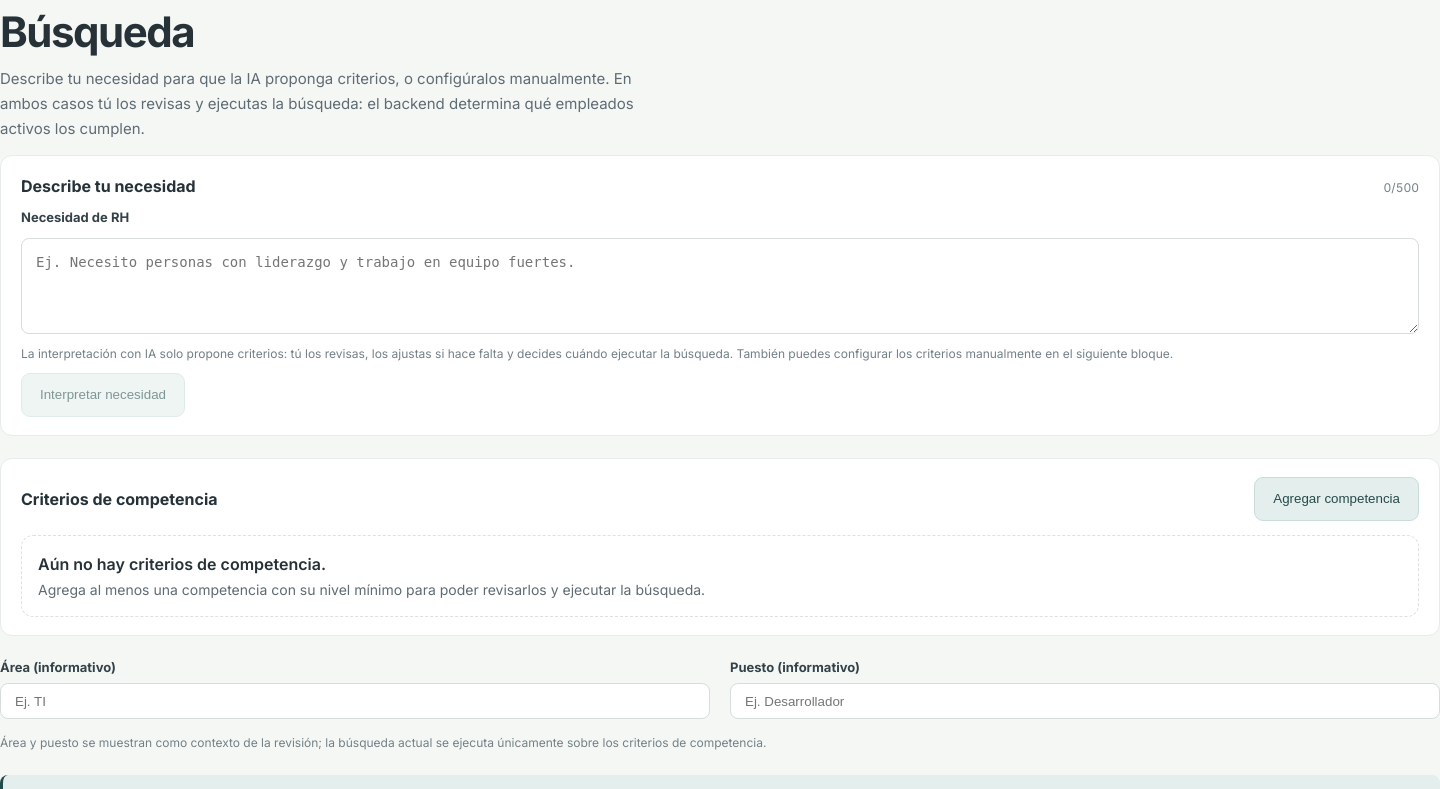
Test case: Búsqueda — criterios de competencia › admite varias competencias y las muestra todas en la revisión
Click the button "Agregar competencia": (1337, 499) [1254,477,1419,521]
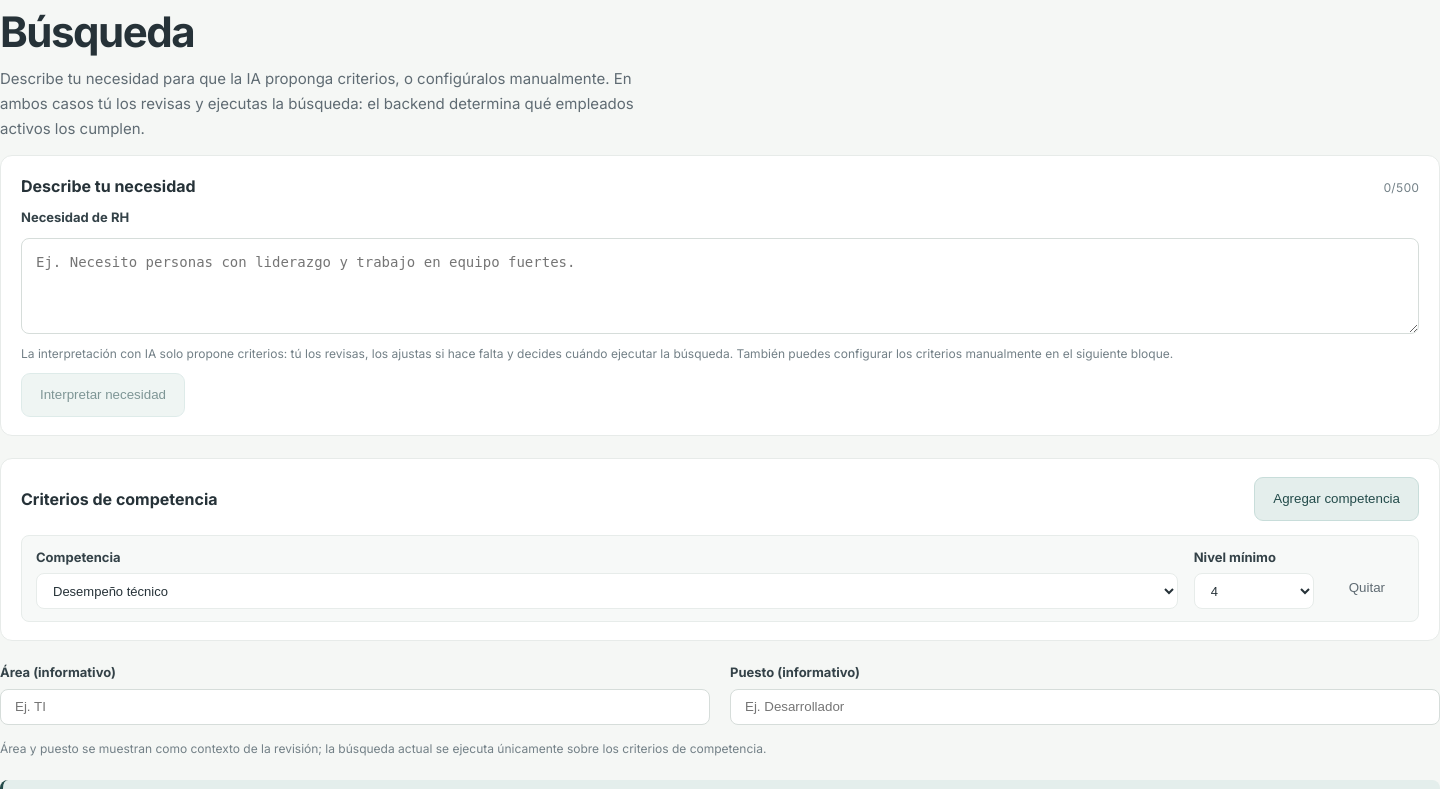
Click the button "Agregar competencia": (1337, 499) [1254,477,1419,521]
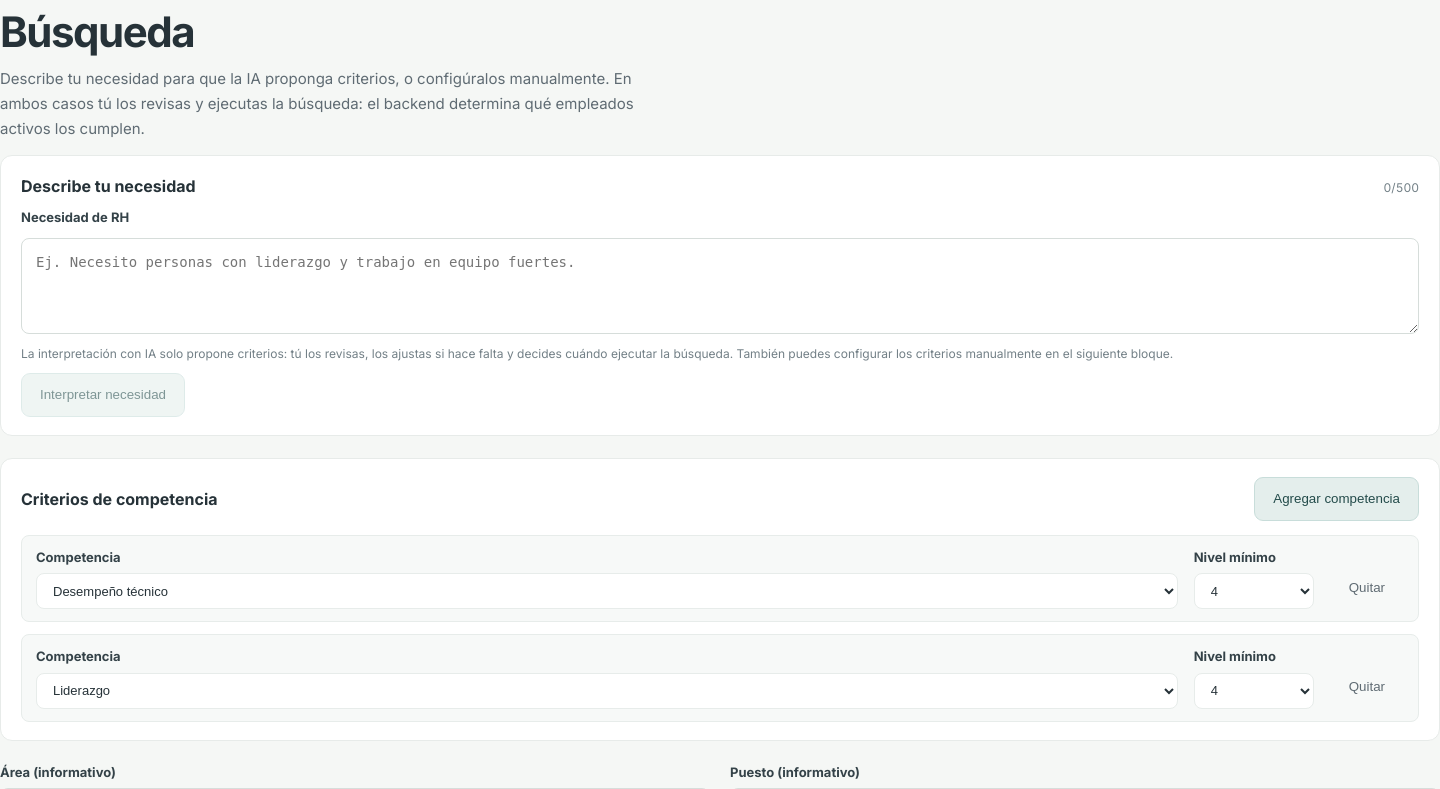
Click the button "Agregar competencia": (1337, 499) [1254,477,1419,521]
(page scrolled)
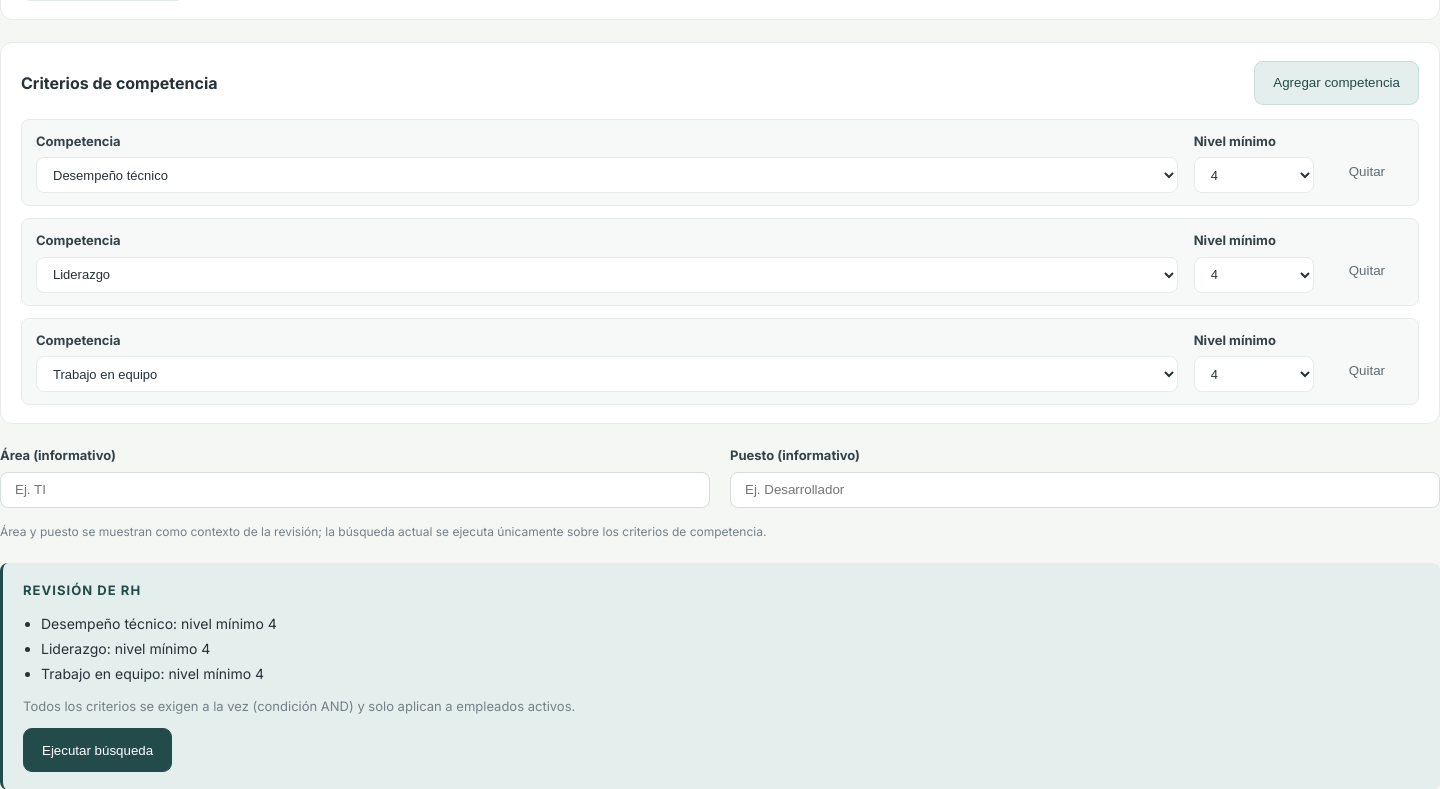
Now the dropdown named "Competencia del criterio 2" shows "Liderazgo", box [36,257,1178,293]
Now the list item "Liderazgo: nivel mínimo 4" is shown, box [41,640,210,657]
Now the dropdown named "Competencia del criterio 3" shows "Trabajo en equipo", box [36,356,1178,392]
